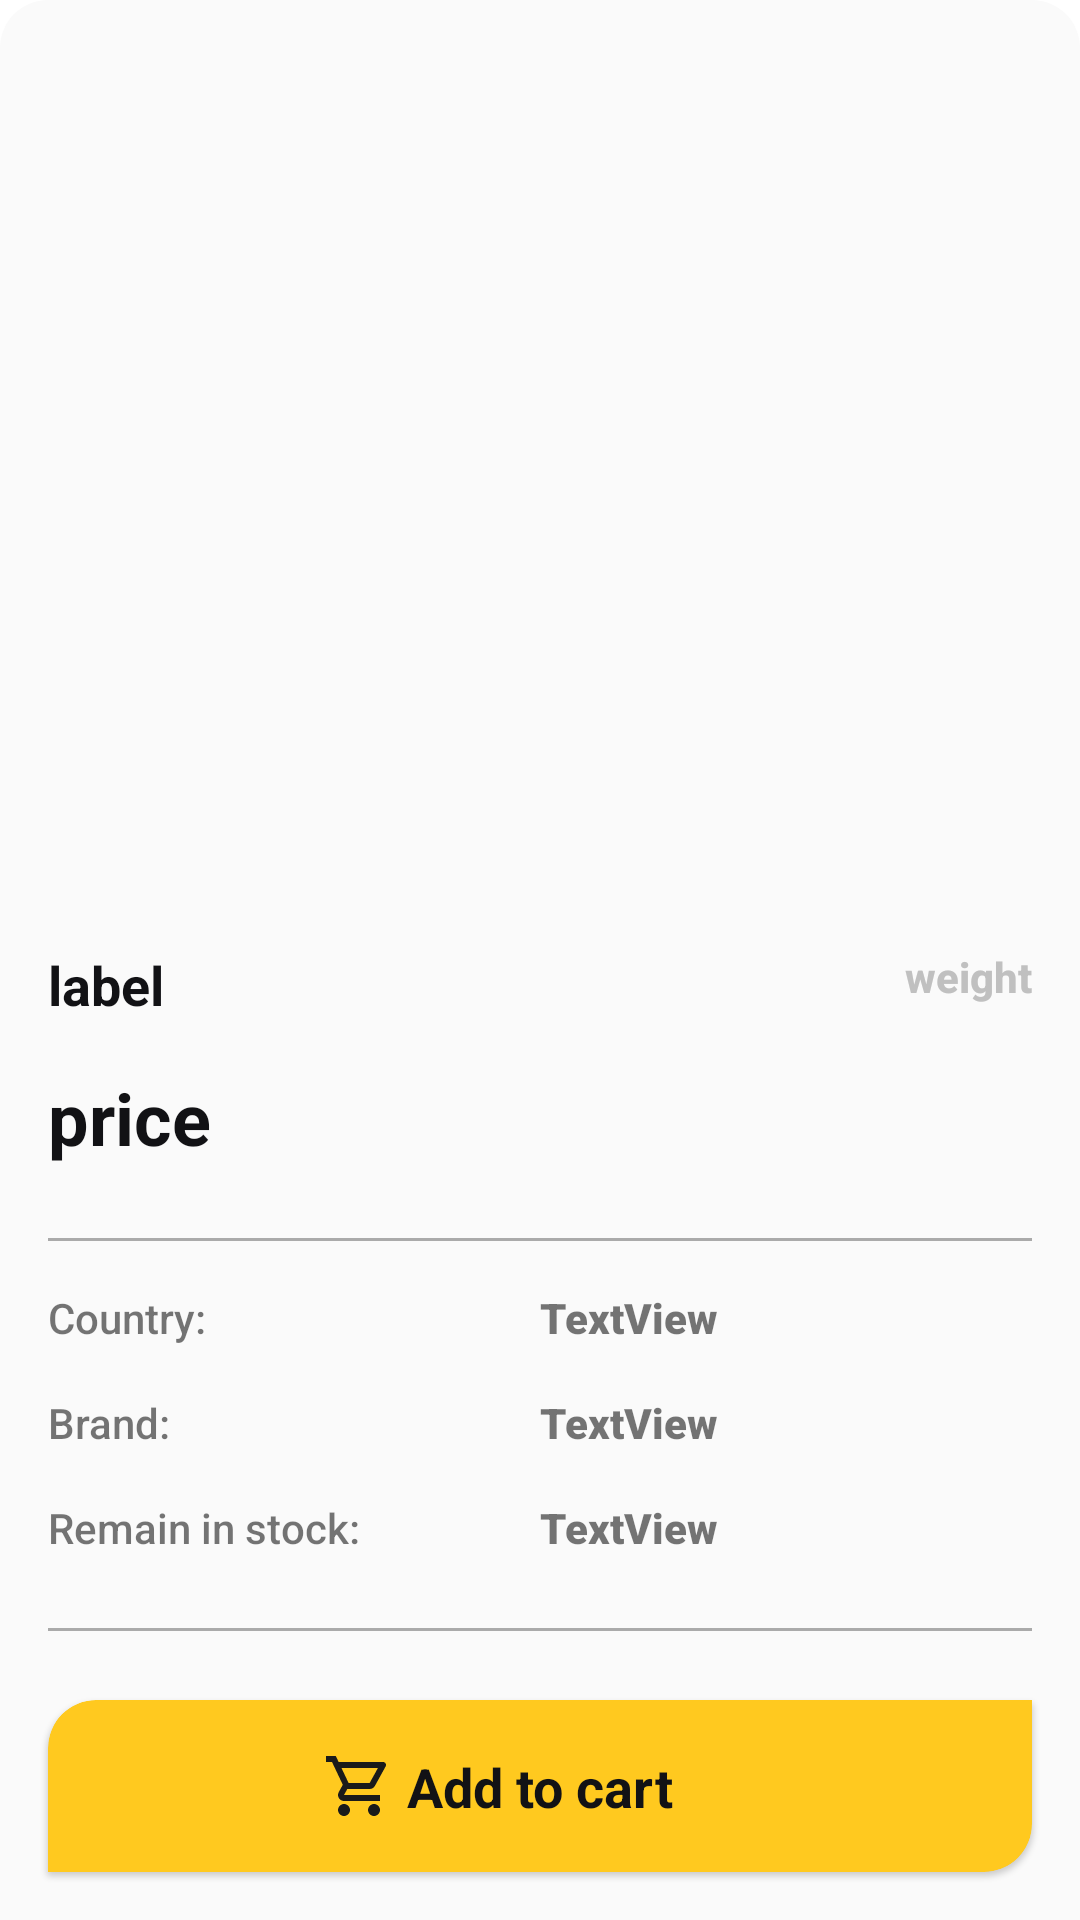

Where to tap for icons on this 1080 × 1920 app screen, as (x,y):
shopping cart: (356,1786)
